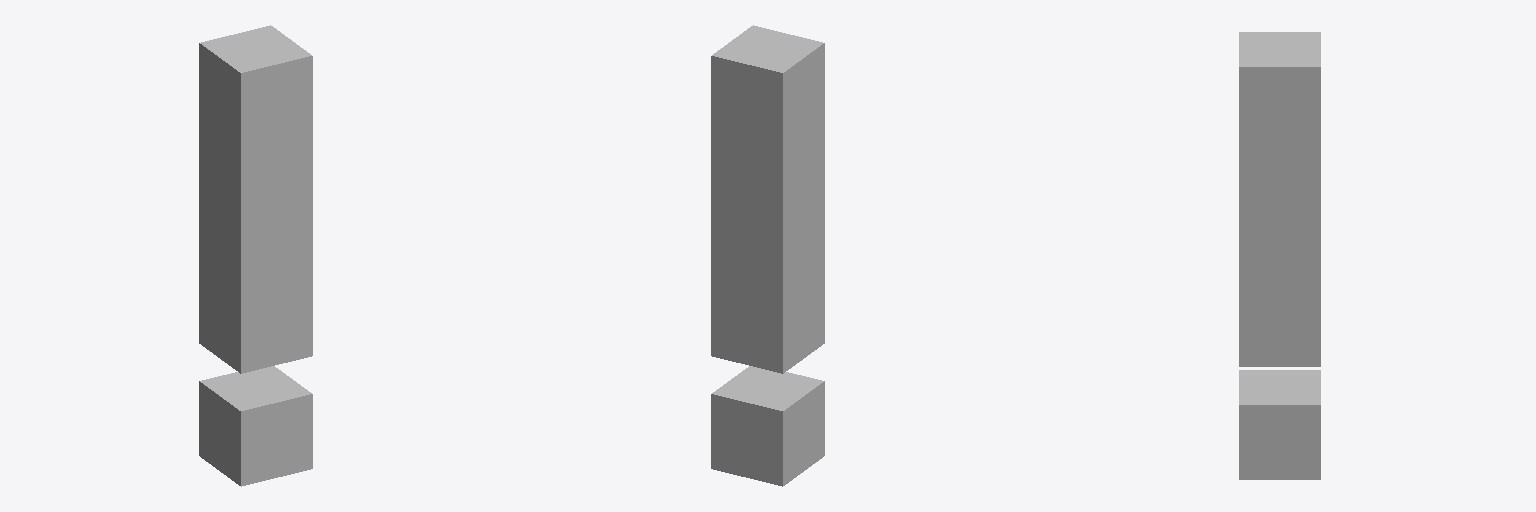
Rendered from Exclamation Mark.obj.
3 renders of one model, left to right at view 1: azimuth 30°, elevation 25°; view 2: azimuth 150°, elevation 25°; view 3: azimuth 270°, elevation 25°, orthographic.
Visible parts, largest first — view 1: Exclamation Mark; view 2: Exclamation Mark; view 3: Exclamation Mark.
Boxes of the visible parts, x1,y1,x2,y2 form: Exclamation Mark: [199, 25, 312, 486]; Exclamation Mark: [711, 25, 824, 486]; Exclamation Mark: [1239, 32, 1320, 479].
Bounding box in the file's own units: 4 × 22 × 4.